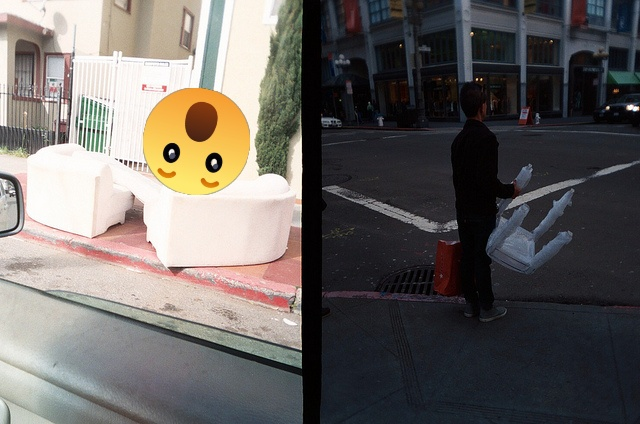wow: (143, 88, 250, 195)
